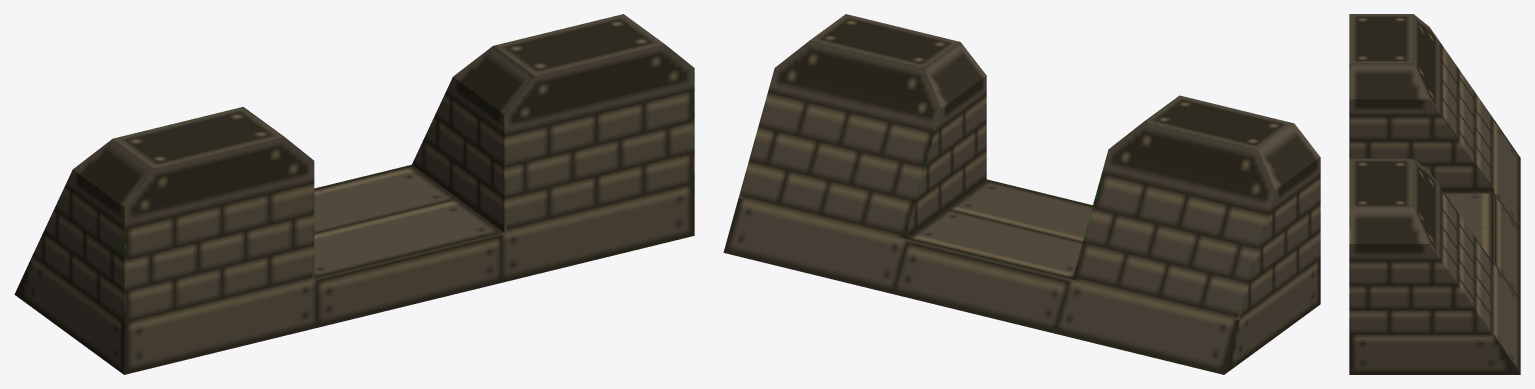
File: EndRoad.fbx
The picture shows the model from 3 angles, left to right: view 1: azimuth 30°, elevation 25°; view 2: azimuth 150°, elevation 25°; view 3: azimuth 270°, elevation 25°; orthographic projection. The views are drawn at different scales.
Parts seen in each view (by area): view 1: DetenerViga; view 2: DetenerViga; view 3: DetenerViga.
Part boxes in pixels (x1=…): DetenerViga: x1=14, y1=14, x2=694, y2=374; DetenerViga: x1=723, y1=14, x2=1320, y2=374; DetenerViga: x1=1349, y1=14, x2=1520, y2=374.
Bounding box in the file's own units: 300 × 100 × 100.
